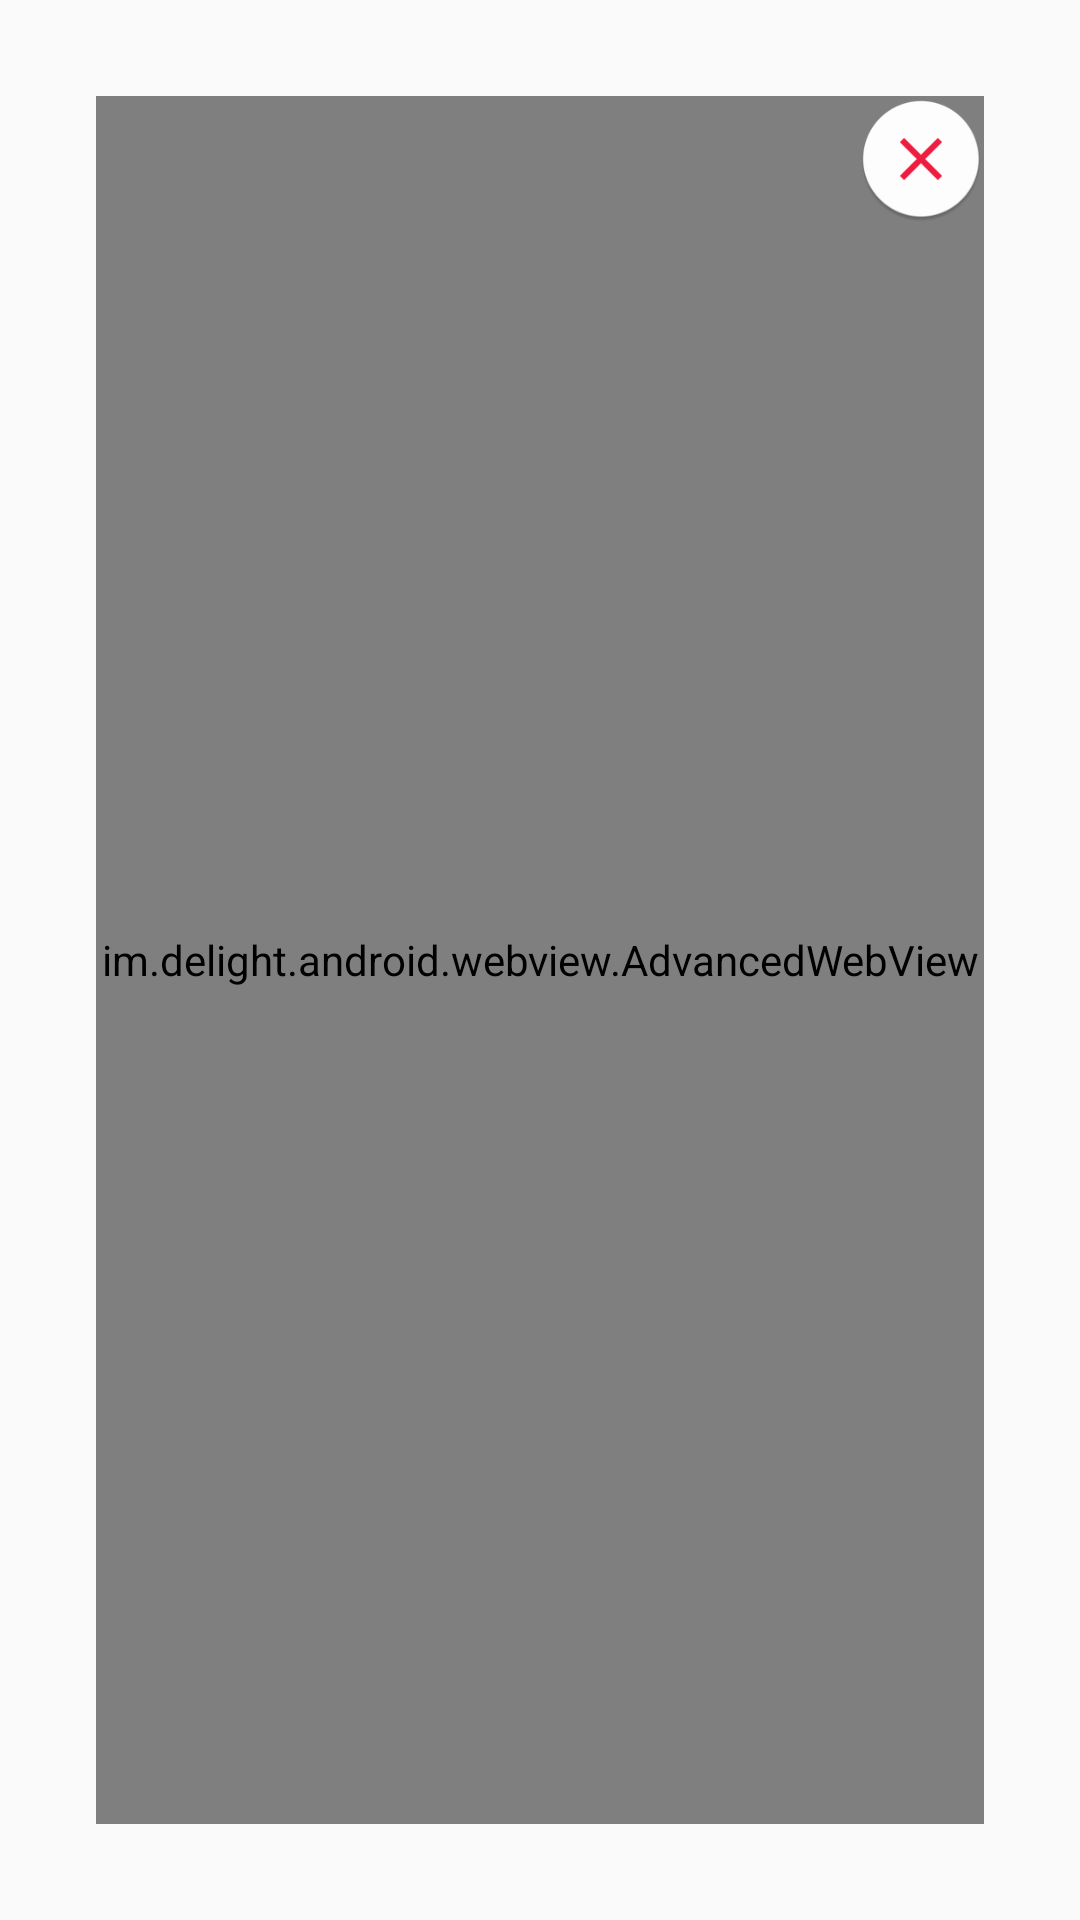

Icon click points for this 1080x1920 phone screenshot, format (x,y):
close: (921,159)
